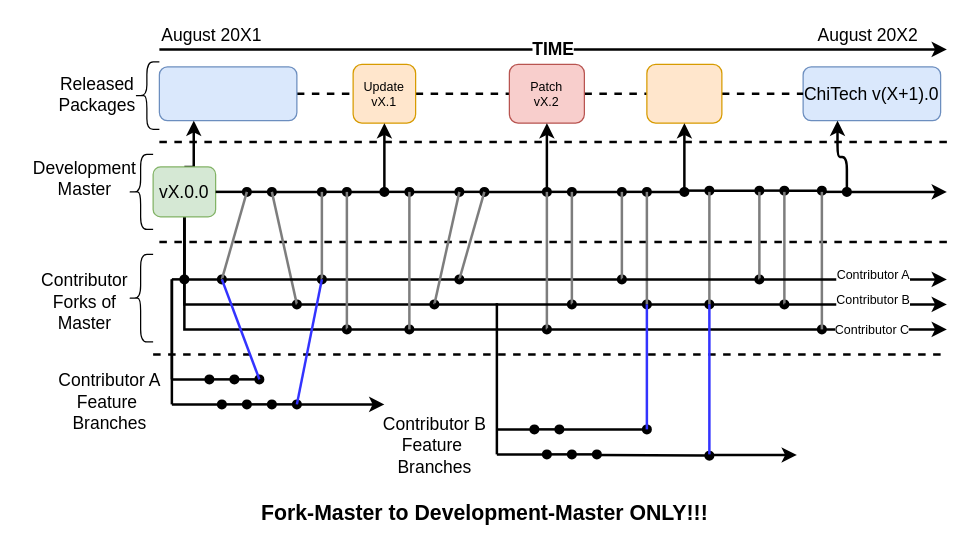
This 979x548 diagram has some shape labels left out. The shapes that lost their labels are listed below. From the top down, each one's centre as x and y in pixels, then its label:
At point 227,93: "ChiTech vX.0".
At point 684,93: "Update vX.3".
